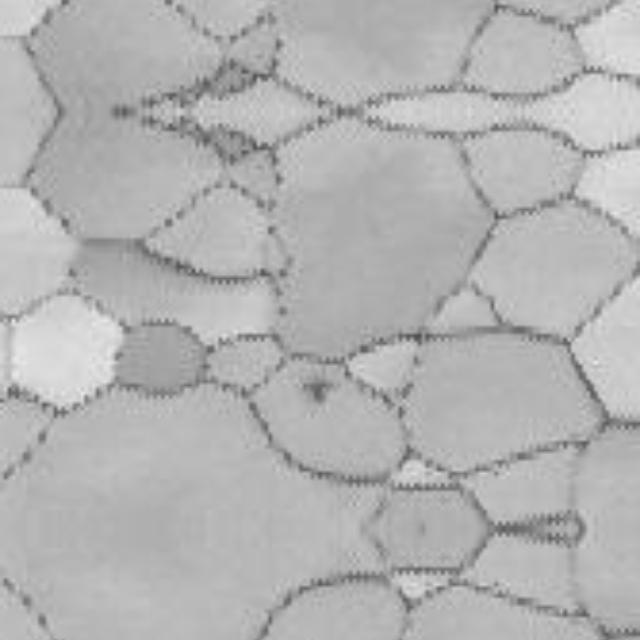good_void: (300, 376, 338, 405)
